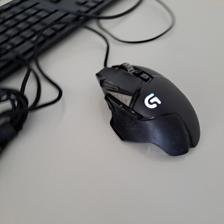mouse: (93, 61, 201, 157)
